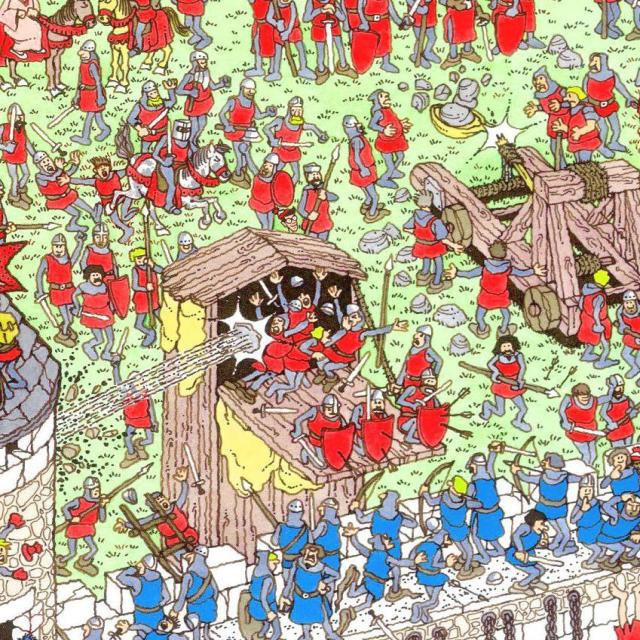waldo: (274, 206, 298, 232)
